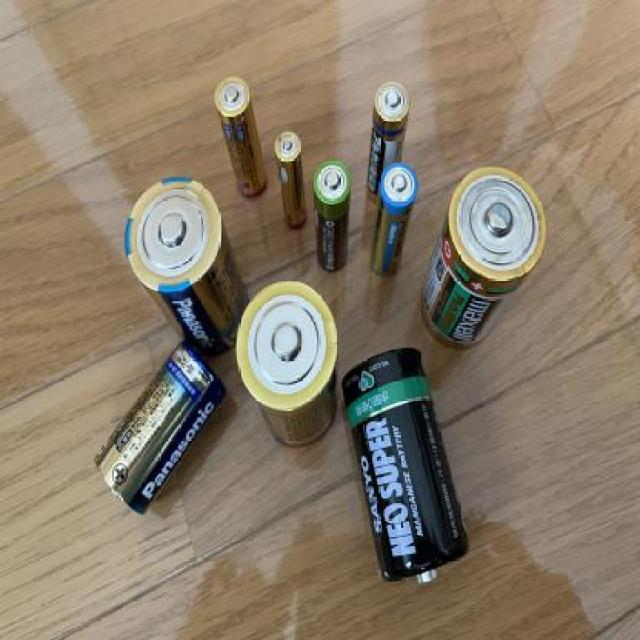hazardous waste: (341, 344, 477, 600), (420, 163, 548, 354), (92, 346, 231, 517), (130, 169, 252, 360), (237, 278, 345, 454), (212, 75, 270, 200), (363, 74, 411, 203), (369, 162, 420, 276), (311, 158, 357, 277), (272, 127, 310, 230)
